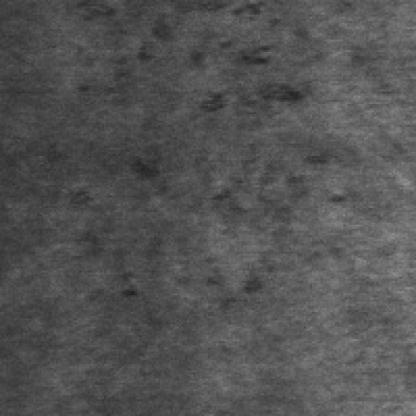rolled-in_scale: (172, 146, 326, 314), (145, 0, 310, 112)
